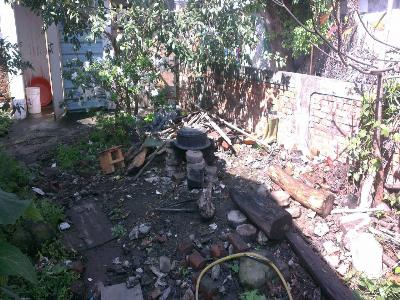bowl: (175, 129, 213, 160)
bucket: (24, 86, 43, 114)
